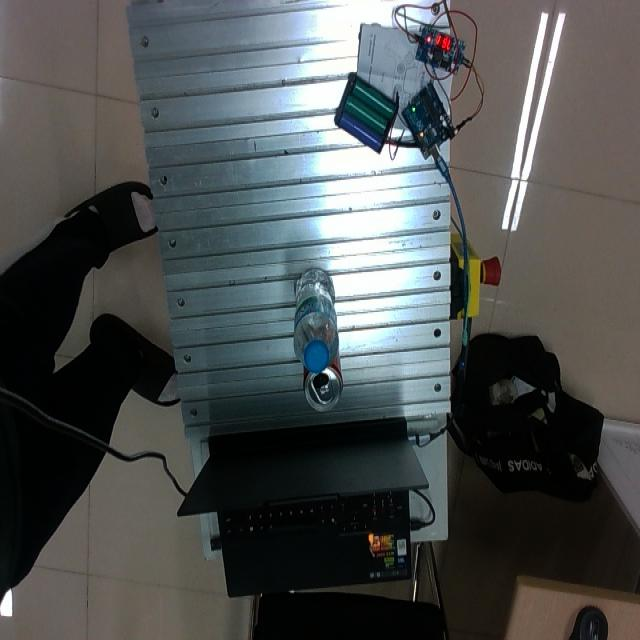coca: (303, 344, 344, 412)
lavie: (293, 270, 340, 378)
